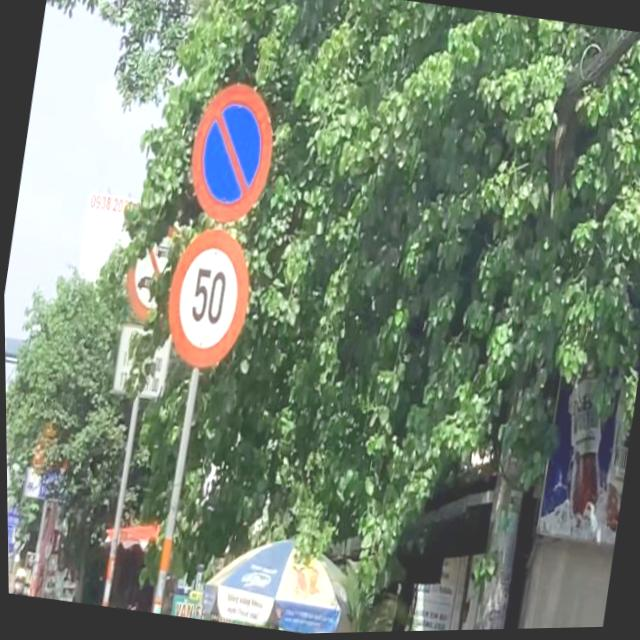Cam do xe: (177, 63, 283, 229)
Toc do toi da cho phep: (156, 223, 257, 378)
